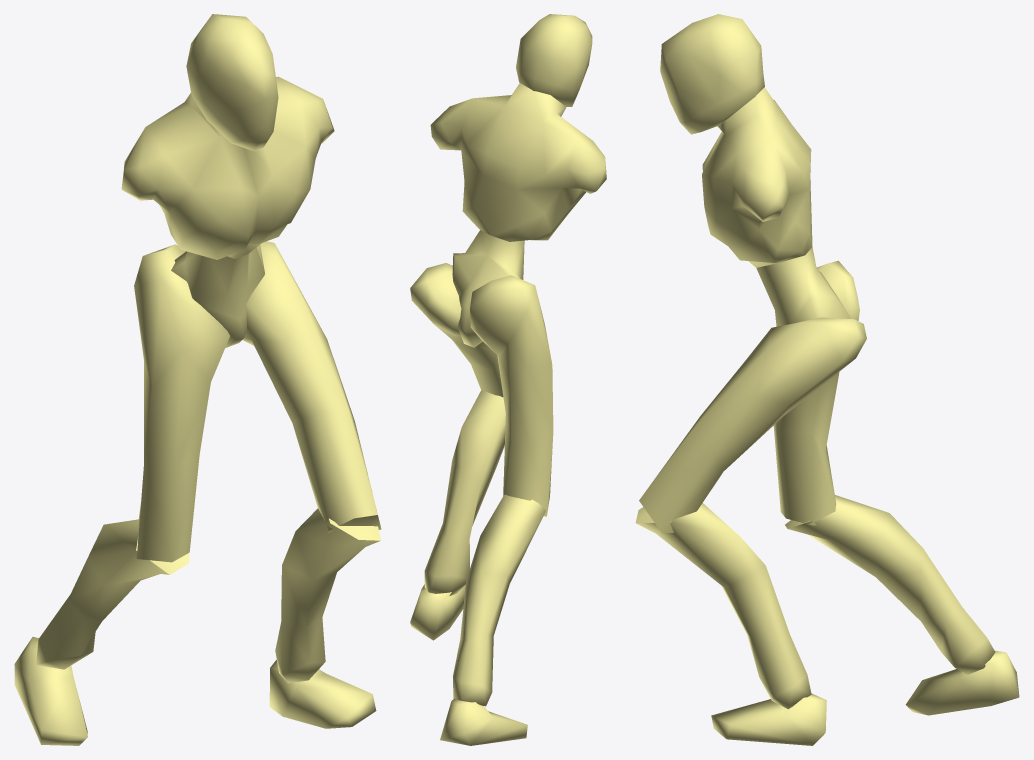
The model's file is filth36.obj.
3 renders of one model, left to right at view 1: azimuth 30°, elevation 25°; view 2: azimuth 150°, elevation 25°; view 3: azimuth 270°, elevation 25°, orthographic. The views are drawn at different scales.
Visible parts, largest first — view 1: Melee_Husk; view 2: Melee_Husk; view 3: Melee_Husk.
Boxes of the visible parts, x1,y1,x2,y2 form: Melee_Husk: [14, 14, 381, 745]; Melee_Husk: [410, 14, 606, 745]; Melee_Husk: [635, 14, 1019, 745].
Size of the model in its own units: 22.9 by 75.14 by 36.61.
